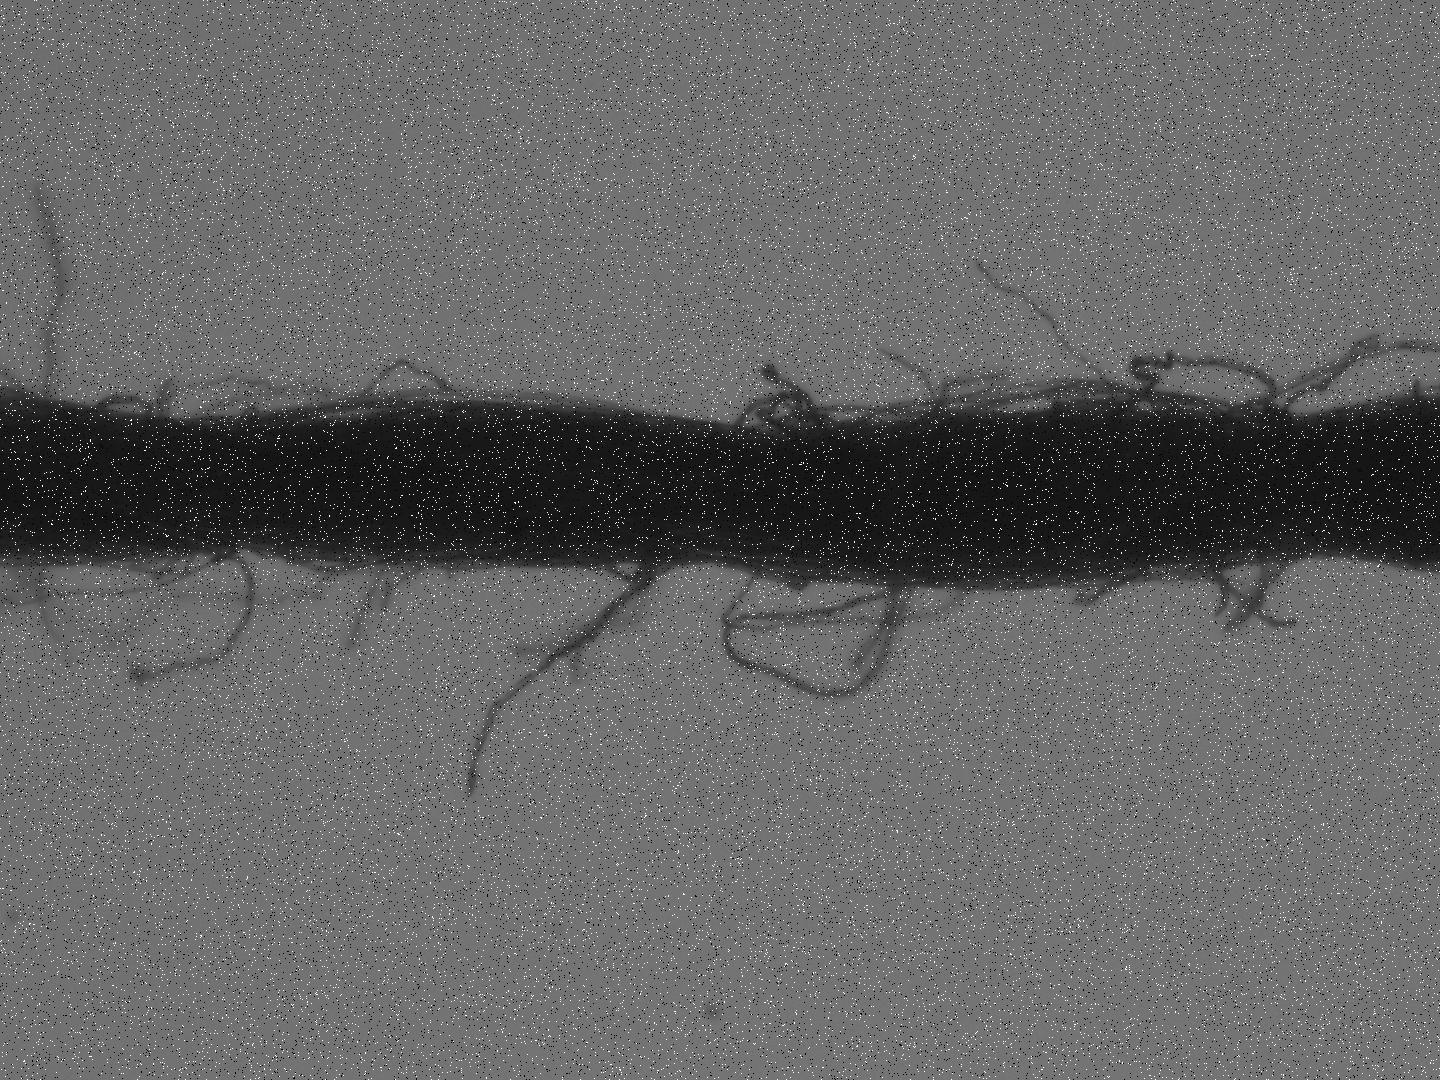loop_fiber: (727, 587, 899, 701), (725, 572, 971, 634), (1127, 344, 1276, 424), (736, 391, 840, 436), (1118, 390, 1222, 419), (1230, 394, 1297, 423), (95, 390, 154, 419), (604, 560, 662, 580)
protruding_fiber: (463, 551, 676, 811), (979, 262, 1117, 411), (127, 549, 256, 692), (35, 182, 67, 394), (341, 564, 391, 653), (36, 562, 77, 669)
